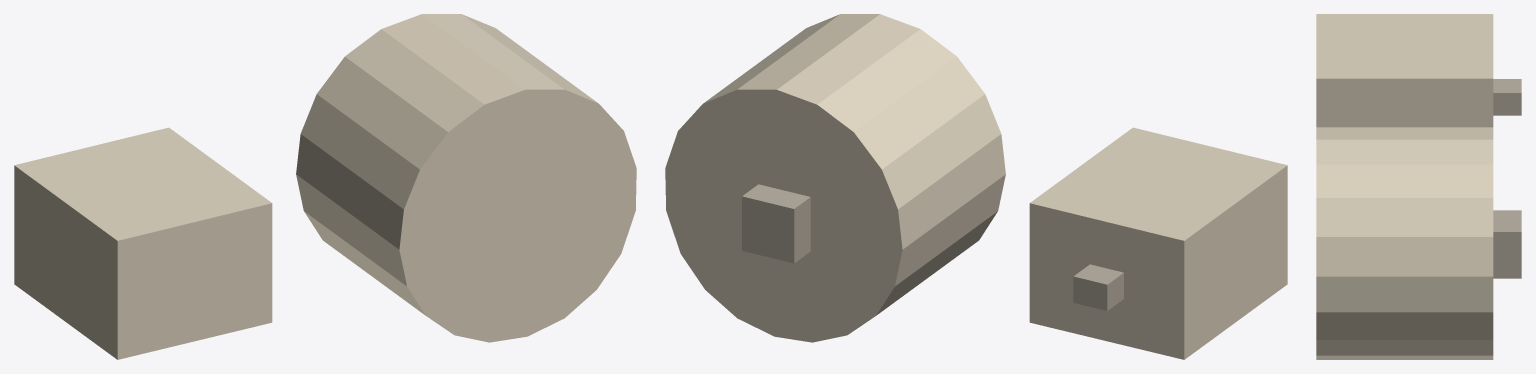
The model's file is historic-palestine-09_26_3507_3203.glb.
3 views of the same model, side by side, from view 1: azimuth 30°, elevation 25°; view 2: azimuth 150°, elevation 25°; view 3: azimuth 270°, elevation 25° (orthographic). The views are drawn at different scales.
Visible parts, largest first — view 1: Building_, Building_.001; view 2: Building_, Building_.001, Roof access hut, Roof access hut .001; view 3: Building_, Building_.001, Roof access hut, Roof access hut .001.
Boxes of the visible parts, x1,y1,x2,y2 form: Building_: (296,14,636,342); Building_.001: (14,127,272,359); Building_: (665,14,1005,342); Building_.001: (1029,127,1287,359); Roof access hut: (742,184,810,263); Roof access hut .001: (1073,264,1123,310); Building_: (1316,127,1493,359); Building_.001: (1316,14,1493,127); Roof access hut: (1493,210,1521,278); Roof access hut .001: (1493,79,1521,115).
Bounding box in the file's own units: 21.75 × 9.91 × 8.7.
